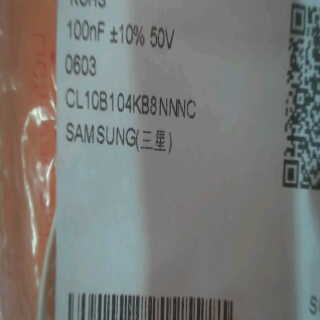100nF: (61, 17, 112, 42)
